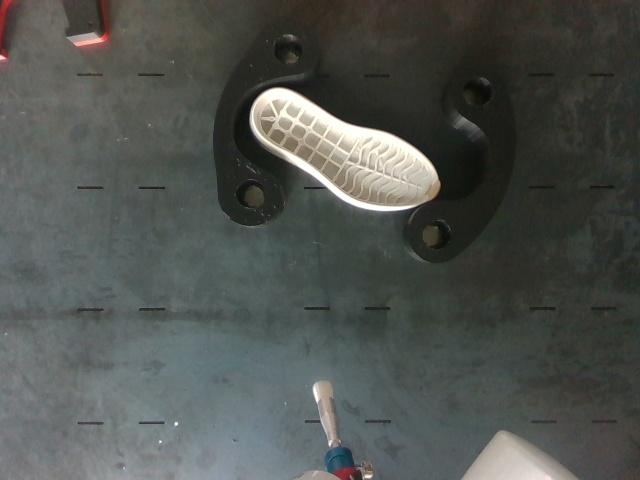shoes: (254, 90, 441, 208)
